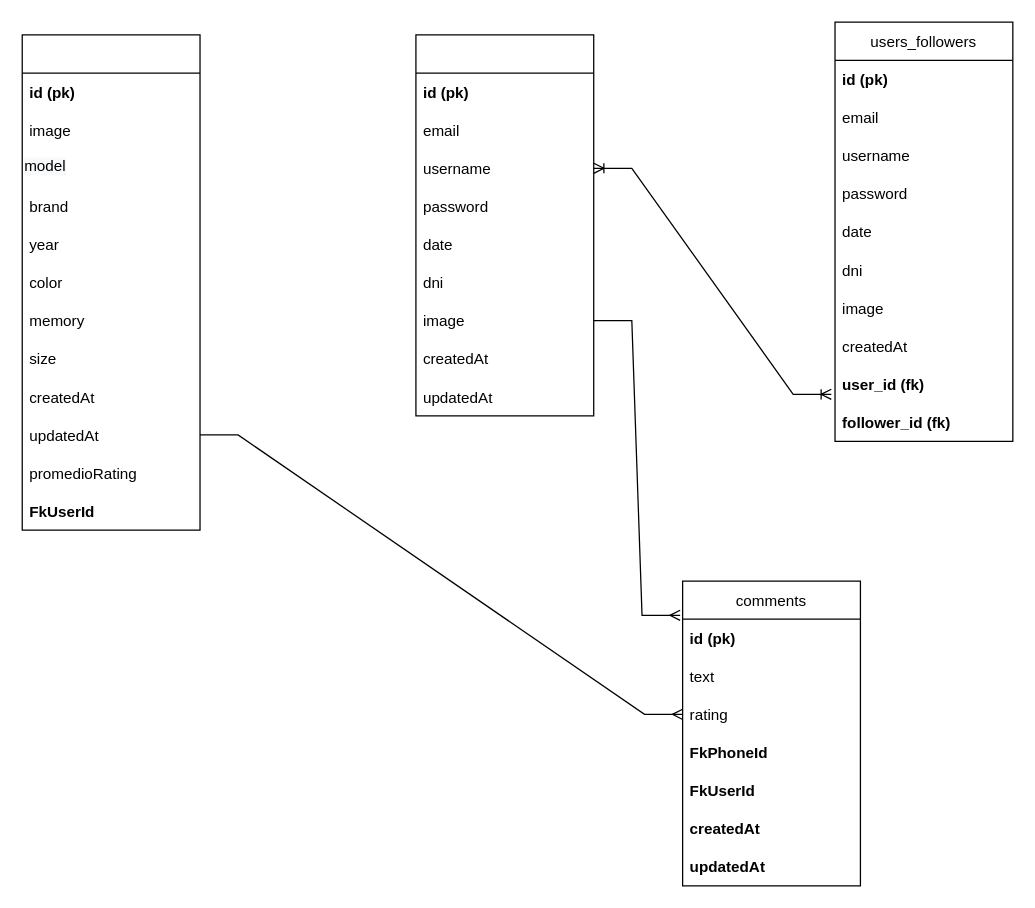
Some shapes in this 1035 by 908 pixel diagram are drawn without their labels. The shapes that lost their labels are listed below. From the top down, each one's box as (x1, y1, x2, y2) in pixels, then its label:
(415, 34, 594, 416): users
(21, 34, 200, 530): phones
